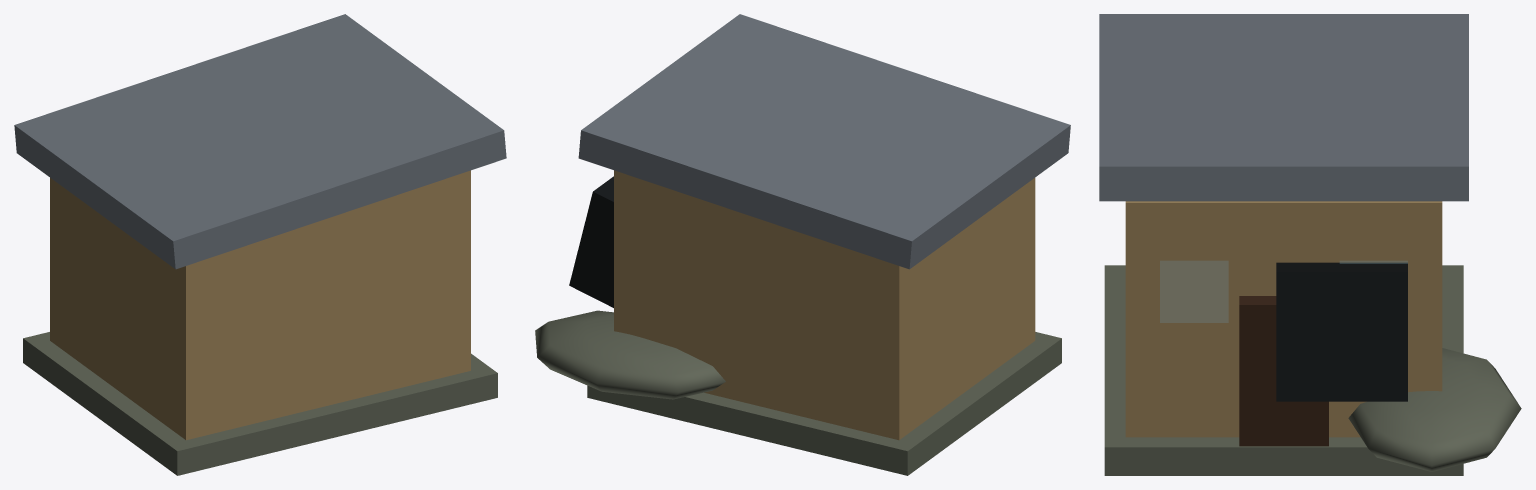
Rendered from shophouse-damaged.glb.
3 renders of one model, left to right at view 1: azimuth 30°, elevation 25°; view 2: azimuth 150°, elevation 25°; view 3: azimuth 270°, elevation 25°, orthographic. The views are drawn at different scales.
Visible parts, largest first — view 1: walls, roof, foundation; view 2: walls, roof, foundation, rubblePile, brokenWall; view 3: roof, walls, brokenWall, foundation, rubblePile, frontDoor, windowLeft.
Part boxes in pixels (x1,y1,x2,y2): walls: [50, 170, 470, 440]; roof: [14, 14, 506, 269]; foundation: [23, 332, 497, 475]; walls: [614, 170, 1035, 440]; roof: [578, 14, 1070, 269]; foundation: [587, 332, 1061, 475]; rubblePile: [535, 310, 725, 399]; brokenWall: [569, 176, 613, 307]; roof: [1099, 14, 1468, 201]; walls: [1125, 201, 1442, 437]; brokenWall: [1276, 262, 1407, 401]; foundation: [1104, 265, 1463, 475]; rubblePile: [1348, 348, 1521, 471]; frontDoor: [1239, 296, 1328, 446]; windowLeft: [1160, 261, 1228, 322].
Bounding box in the file's own units: 2 × 1.3 × 1.6.
